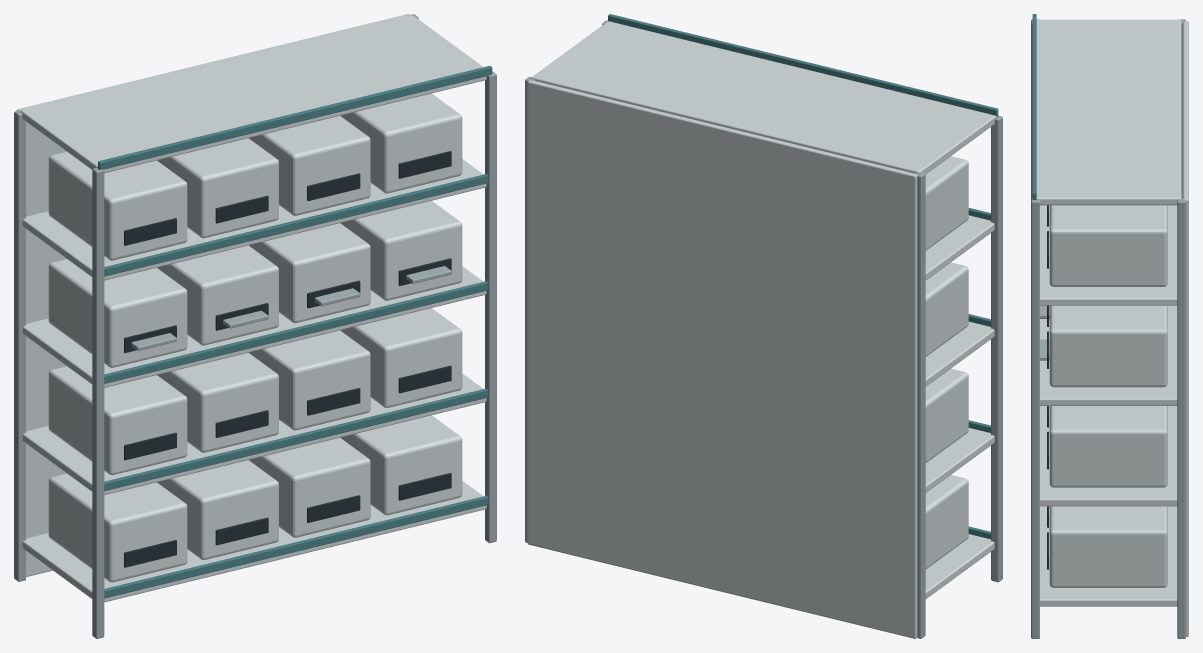
The model's file is RD_PPEDispenser.fbx.
The picture shows the model from 3 angles, left to right: view 1: azimuth 30°, elevation 25°; view 2: azimuth 150°, elevation 25°; view 3: azimuth 270°, elevation 25°; orthographic projection. The views are drawn at different scales.
Parts seen in each view (by area): view 1: RD_PPEDispenser; view 2: RD_PPEDispenser; view 3: RD_PPEDispenser.
Part boxes in pixels (box(x1,y1,x2,y2)): RD_PPEDispenser: box(14, 14, 496, 638); RD_PPEDispenser: box(525, 14, 1002, 638); RD_PPEDispenser: box(1031, 14, 1188, 638).
Bounding box in the file's own units: 184 × 208 × 66.95.
